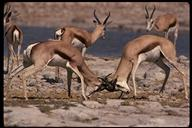antelope: (7, 40, 107, 103), (105, 34, 188, 101), (54, 9, 113, 58), (144, 4, 180, 46), (4, 3, 24, 74)
water: (98, 41, 119, 54)
